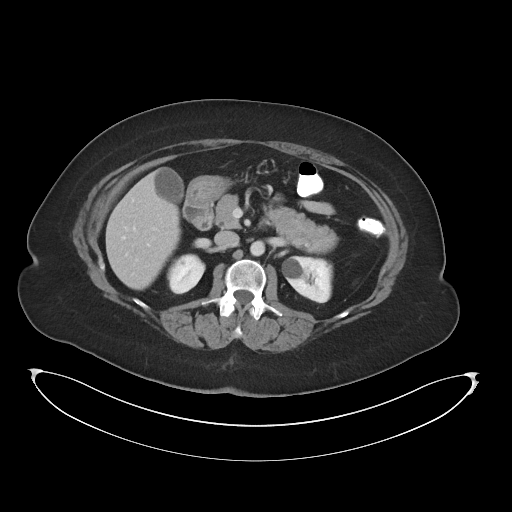Lesion: (276, 255, 305, 280)
